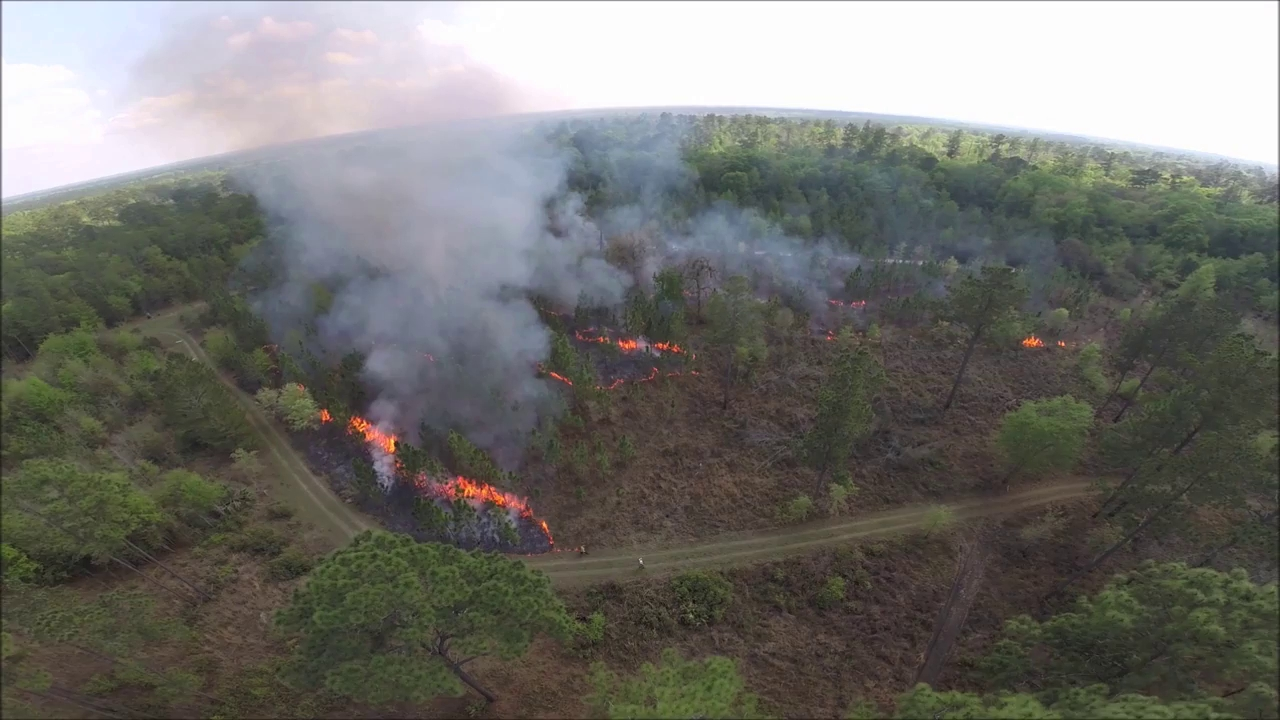forest_fire: (413, 473, 552, 547), (574, 328, 685, 353), (346, 416, 397, 454), (594, 366, 661, 390), (543, 367, 573, 385), (1021, 334, 1045, 346), (665, 370, 697, 375), (321, 409, 331, 421), (396, 460, 399, 465)
